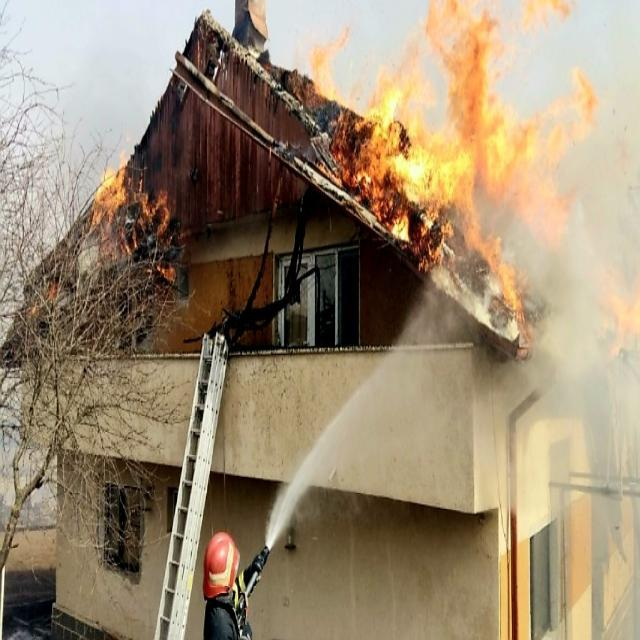Fire: (312, 0, 539, 282), (76, 159, 137, 278)
Smoke: (519, 21, 640, 502)
